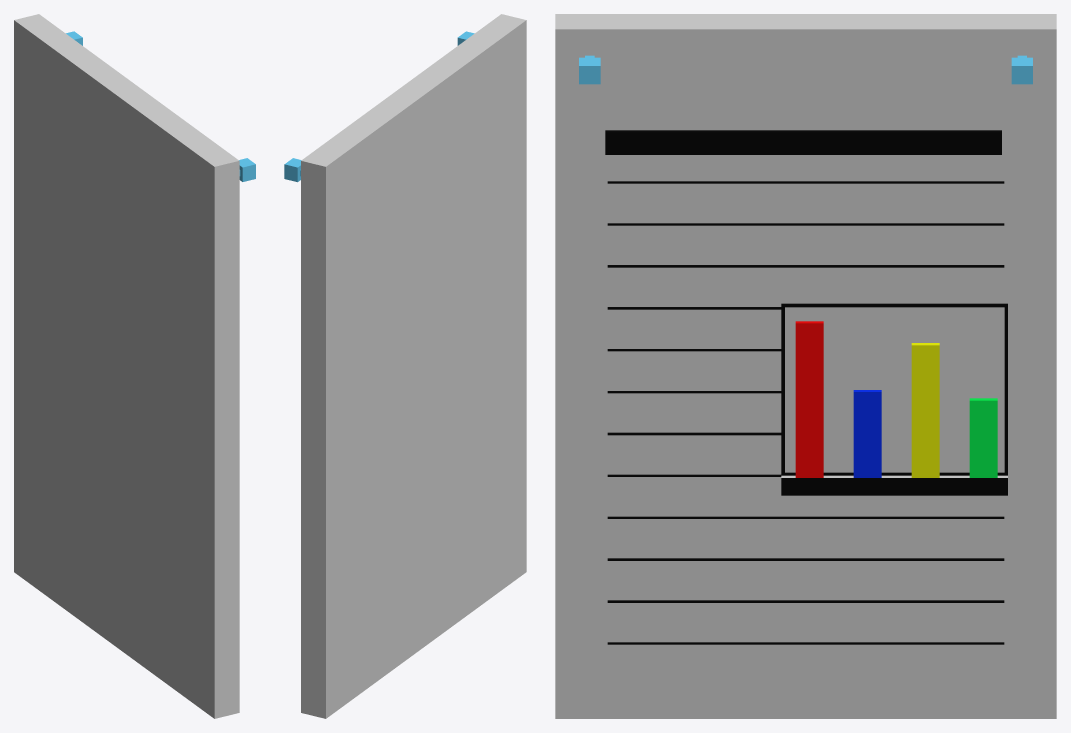
Rendered from Papier3.fbx.
3 renders of one model, left to right at view 1: azimuth 30°, elevation 25°; view 2: azimuth 150°, elevation 25°; view 3: azimuth 270°, elevation 25°, orthographic. The views are drawn at different scales.
Parts seen in each view (by area): view 1: Blatt; view 2: Blatt; view 3: Blatt, Würfel_1, Würfel, Würfel_0, Würfel_1_2, Würfel_2, Würfel_9, Würfel_10, Würfel_11, Würfel_3.
Part boxes in pixels (x1=…): Blatt: x1=14, y1=14, x2=239, y2=718; Blatt: x1=301, y1=14, x2=526, y2=718; Blatt: x1=555, y1=14, x2=1056, y2=718; Würfel_1: x1=781, y1=303, x2=1007, y2=495; Würfel: x1=605, y1=130, x2=1001, y2=154; Würfel_0: x1=607, y1=642, x2=1004, y2=644; Würfel_1_2: x1=607, y1=600, x2=1004, y2=602; Würfel_2: x1=607, y1=558, x2=1004, y2=560; Würfel_9: x1=607, y1=265, x2=1004, y2=267; Würfel_10: x1=607, y1=223, x2=1004, y2=225; Würfel_11: x1=607, y1=181, x2=1004, y2=183; Würfel_3: x1=607, y1=516, x2=1004, y2=518.
Size of the model in its own units: 12.67 by 131 by 86.46.
